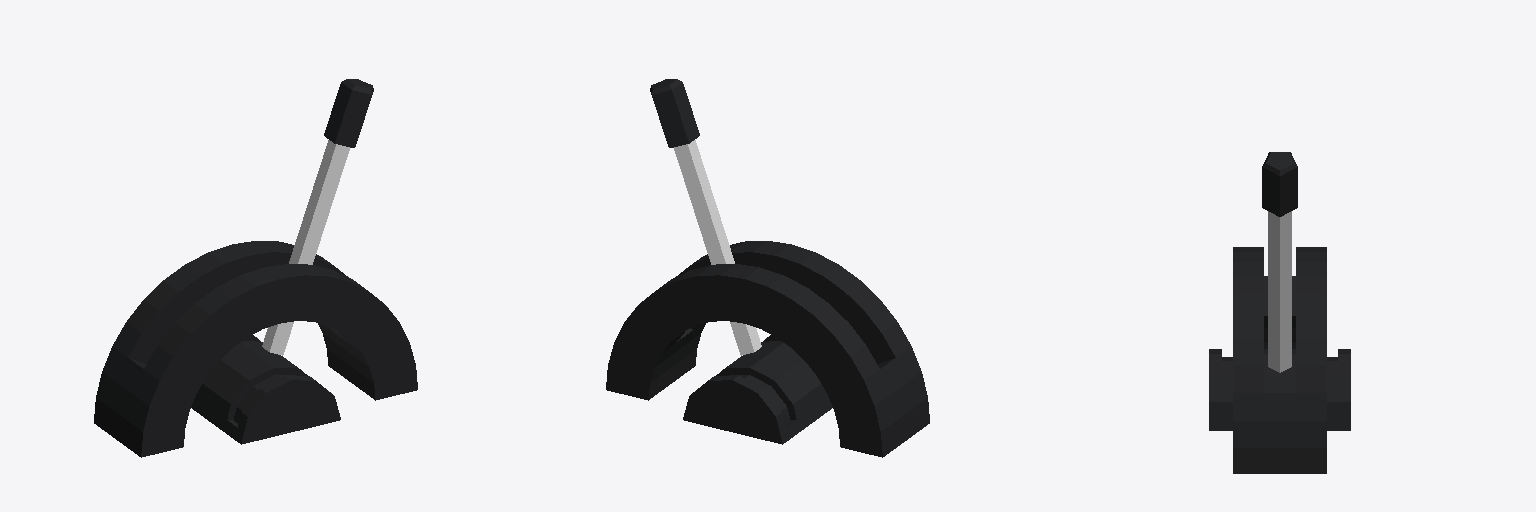
The model's file is lever.obj.
3 views of the same model, side by side, from view 1: azimuth 30°, elevation 25°; view 2: azimuth 150°, elevation 25°; view 3: azimuth 270°, elevation 25° (orthographic).
Visible parts, largest first — view 1: Body, Handle; view 2: Body, Handle; view 3: Body, Handle.
Part boxes in pixels (x1,y1,x2,y2): Body: (94, 241, 417, 457); Handle: (262, 79, 373, 355); Body: (606, 241, 929, 457); Handle: (650, 79, 761, 355); Body: (1209, 247, 1350, 473); Handle: (1262, 152, 1297, 372).
Size of the model in its own units: 0.744 by 0.7731 by 0.3284.